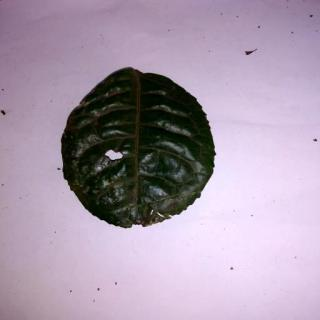Anthracnose: (58, 67, 217, 230)
